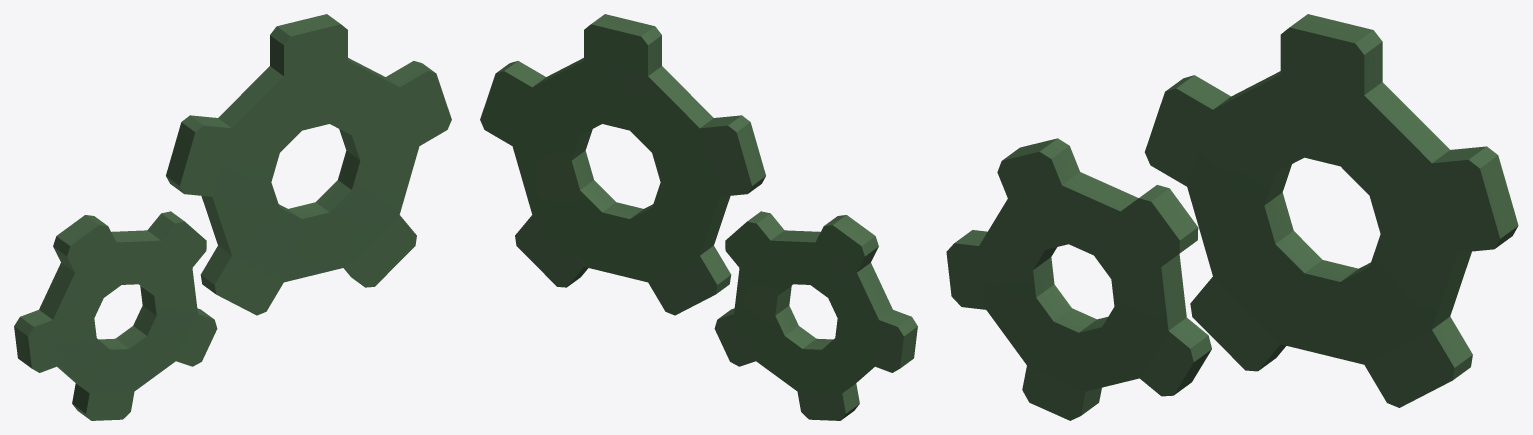
The model's file is Working_Icon.fbx.
3 views of the same model, side by side, from view 1: azimuth 30°, elevation 25°; view 2: azimuth 150°, elevation 25°; view 3: azimuth 330°, elevation 25° (orthographic). The views are drawn at different scales.
Visible parts, largest first — view 1: Working_Icon; view 2: Working_Icon; view 3: Working_Icon.
Boxes of the visible parts, x1=… form: Working_Icon: x1=14, y1=14, x2=451, y2=420; Working_Icon: x1=480, y1=14, x2=917, y2=420; Working_Icon: x1=946, y1=14, x2=1518, y2=420.
Size of the model in its own units: 54.15 by 41.77 by 3.1.
